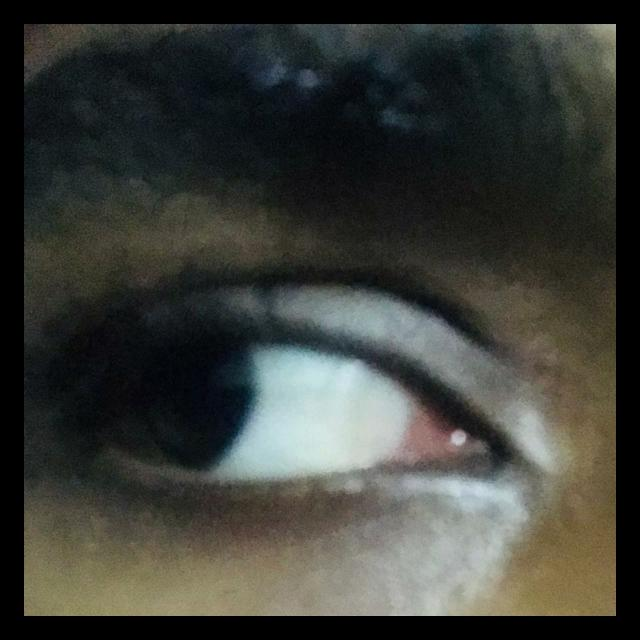eye: (111, 345, 416, 482)
iris: (133, 350, 261, 471)
